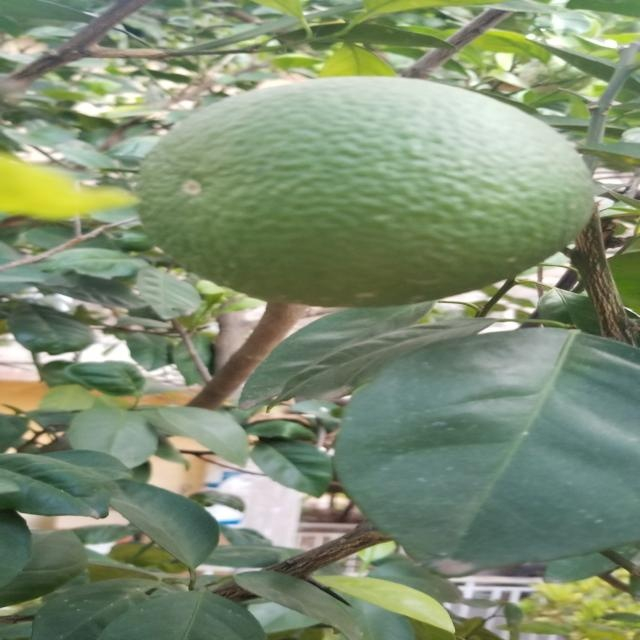agrume: (114, 68, 604, 311)
